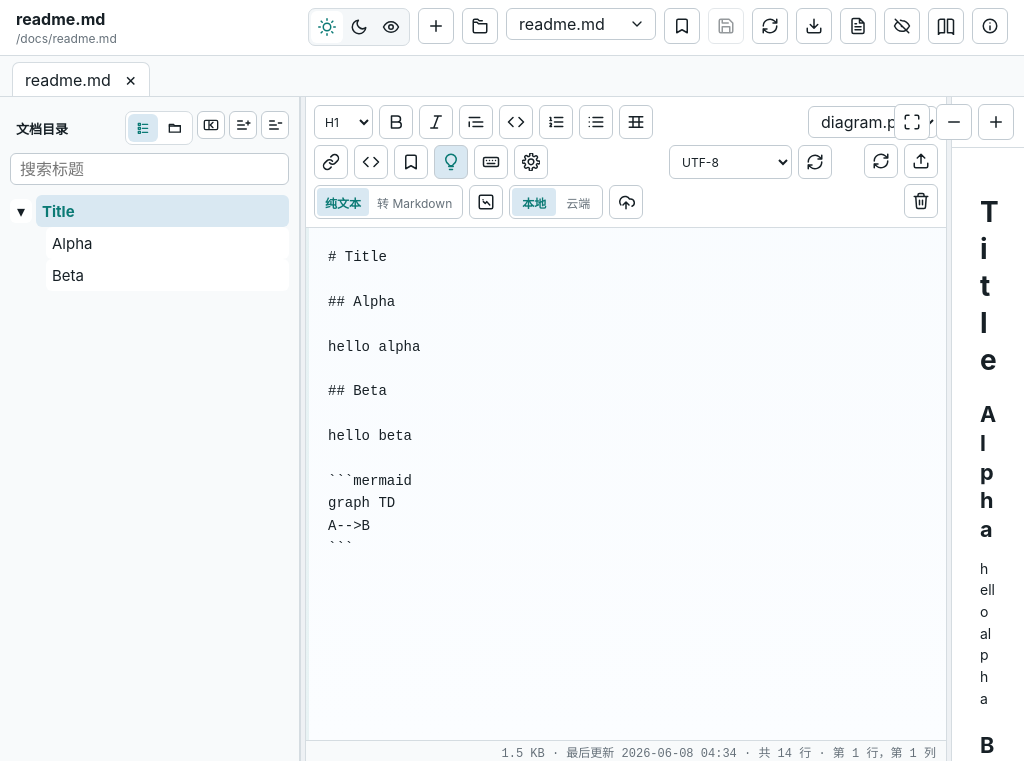
App › matches Alt shortcuts via event.code even when event.key is a Mac special char
Replace the text in the text box with test id "editor" with "Hello world": [626, 484] box [306,228,946,740]
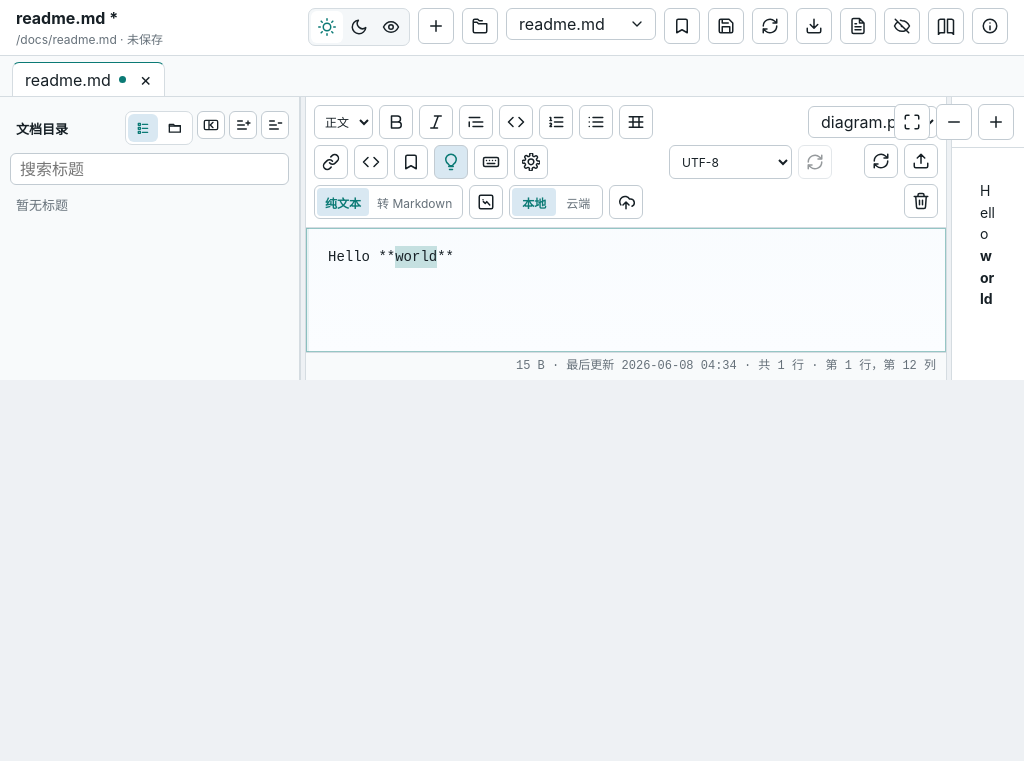
Replace the text in the text box with test id "editor" with "Test": [626, 290] box [306,228,946,352]
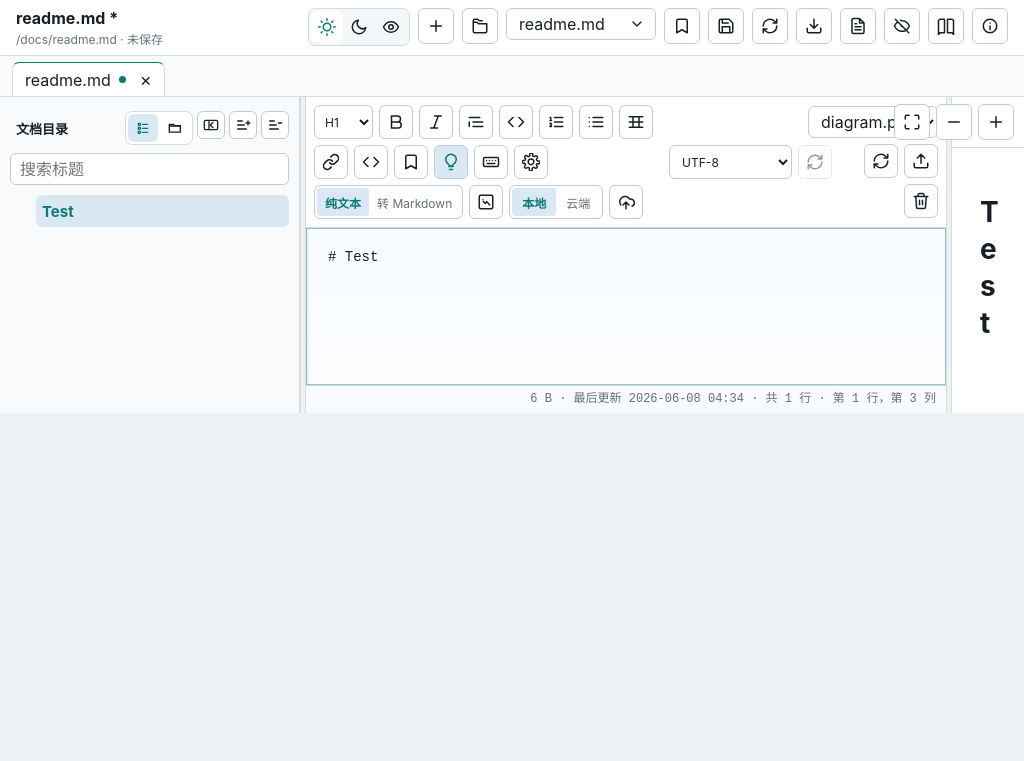
Expected: the text box with test id "editor" holds "# Test", [306,228,946,385]
